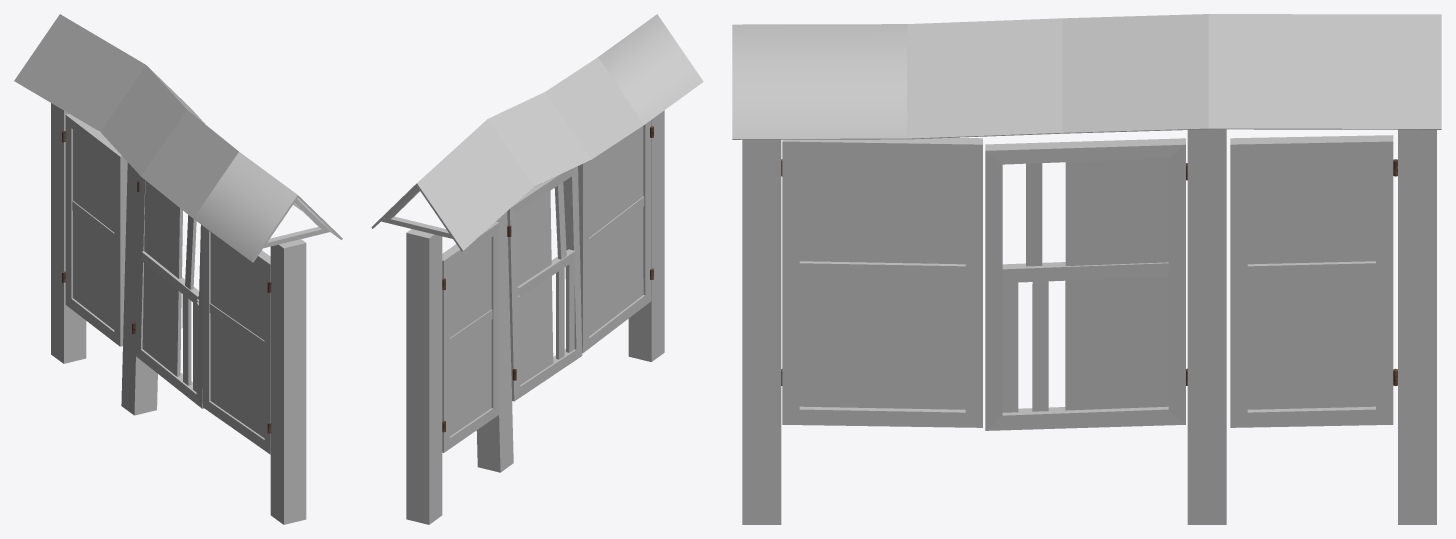
File: Wrata01Wood.FBX
The picture shows the model from 3 angles, left to right: view 1: azimuth 30°, elevation 25°; view 2: azimuth 150°, elevation 25°; view 3: azimuth 270°, elevation 25°; orthographic projection. The views are drawn at different scales.
Visible parts, largest first — view 1: Wrata01Detail, Wrata01Door01LOD0; view 2: Wrata01Detail, Wrata01Door01LOD0; view 3: Wrata01Detail, Wrata01Door01LOD0.
Part boxes in pixels (x1=…): Wrata01Detail: x1=14, y1=14, x2=342, y2=524; Wrata01Door01LOD0: x1=65, y1=113, x2=127, y2=346; Wrata01Detail: x1=371, y1=14, x2=703, y2=524; Wrata01Door01LOD0: x1=442, y1=221, x2=499, y2=452; Wrata01Detail: x1=732, y1=14, x2=1441, y2=524; Wrata01Door01LOD0: x1=1230, y1=135, x2=1393, y2=427.
Size of what is drawn, in the model's own units: 10.99 by 45.63 by 36.08.
